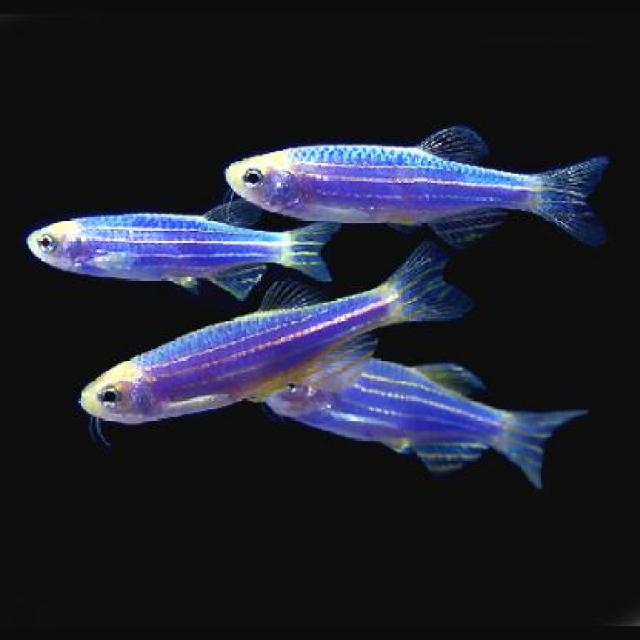ZebraFish: (76, 238, 469, 432), (227, 122, 616, 245), (24, 198, 344, 292)
